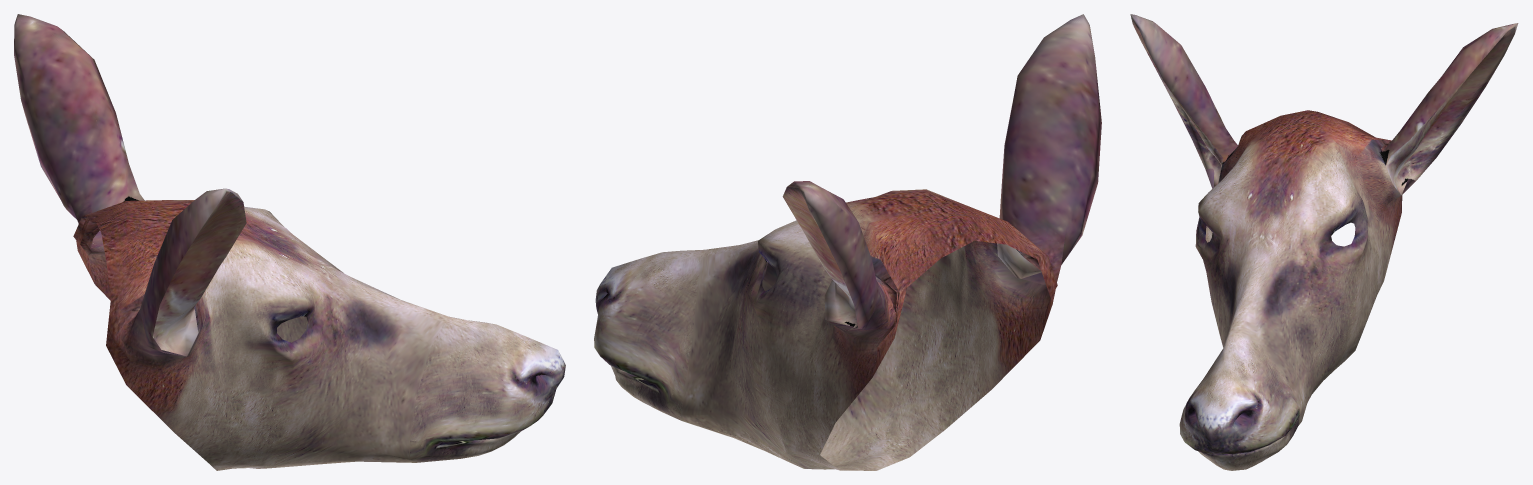
File: Ciervo_head.obj
3 views of the same model, side by side, from view 1: azimuth 30°, elevation 25°; view 2: azimuth 150°, elevation 25°; view 3: azimuth 270°, elevation 25° (orthographic). The views are drawn at different scales.
Visible parts, largest first — view 1: Head_head; view 2: Head_head; view 3: Head_head.
Boxes of the visible parts, box(x1,y1,x2,y2) form: Head_head: box(14, 14, 565, 470); Head_head: box(594, 14, 1101, 470); Head_head: box(1130, 14, 1518, 470).
Bounding box in the file's own units: 1.42 × 1.19 × 1.3.
